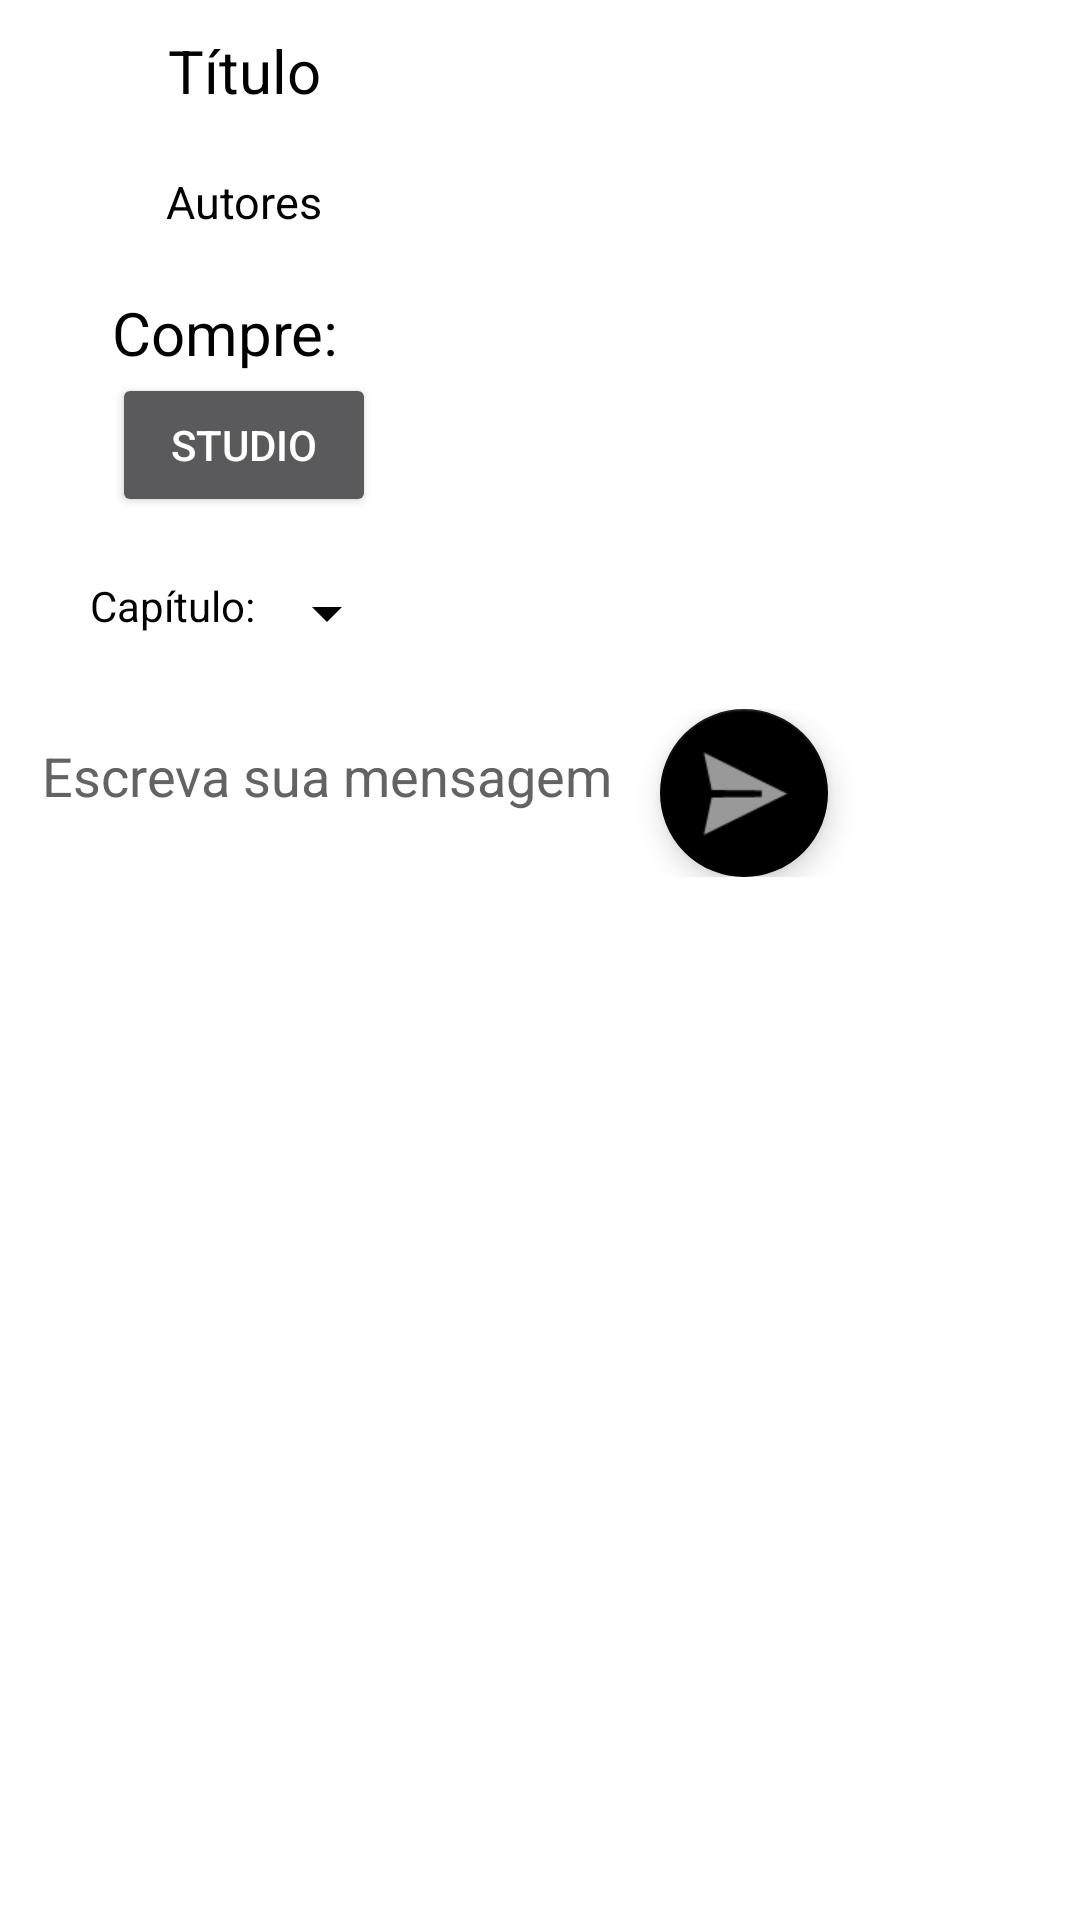

Icon bounding boxes for this 1080 x 1920 phone screenshot, format bbox=(x1, y1, x2, y2):
send: bbox=(660, 709, 828, 877)
